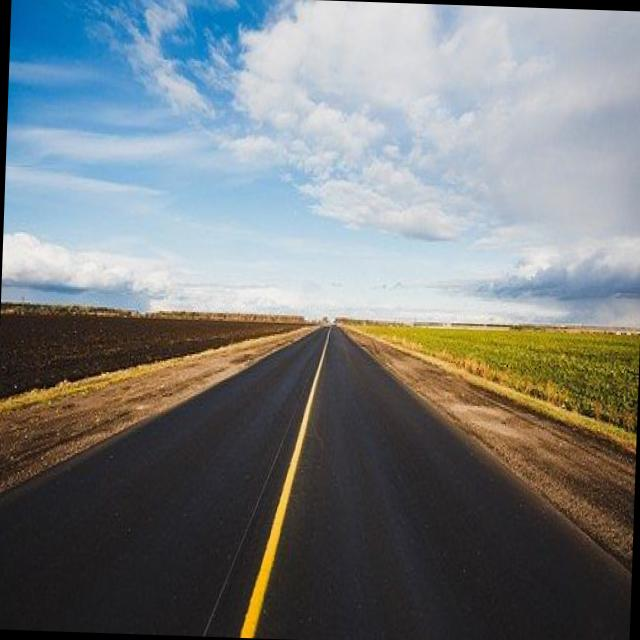asphalt: (0, 328, 631, 640)
grass: (363, 326, 640, 446)
red-sand: (0, 301, 302, 397)
white-sand: (346, 329, 636, 570), (0, 327, 312, 491)
